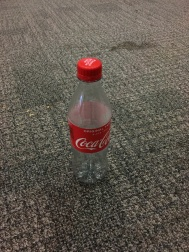bottle_red: (57, 50, 133, 195)
